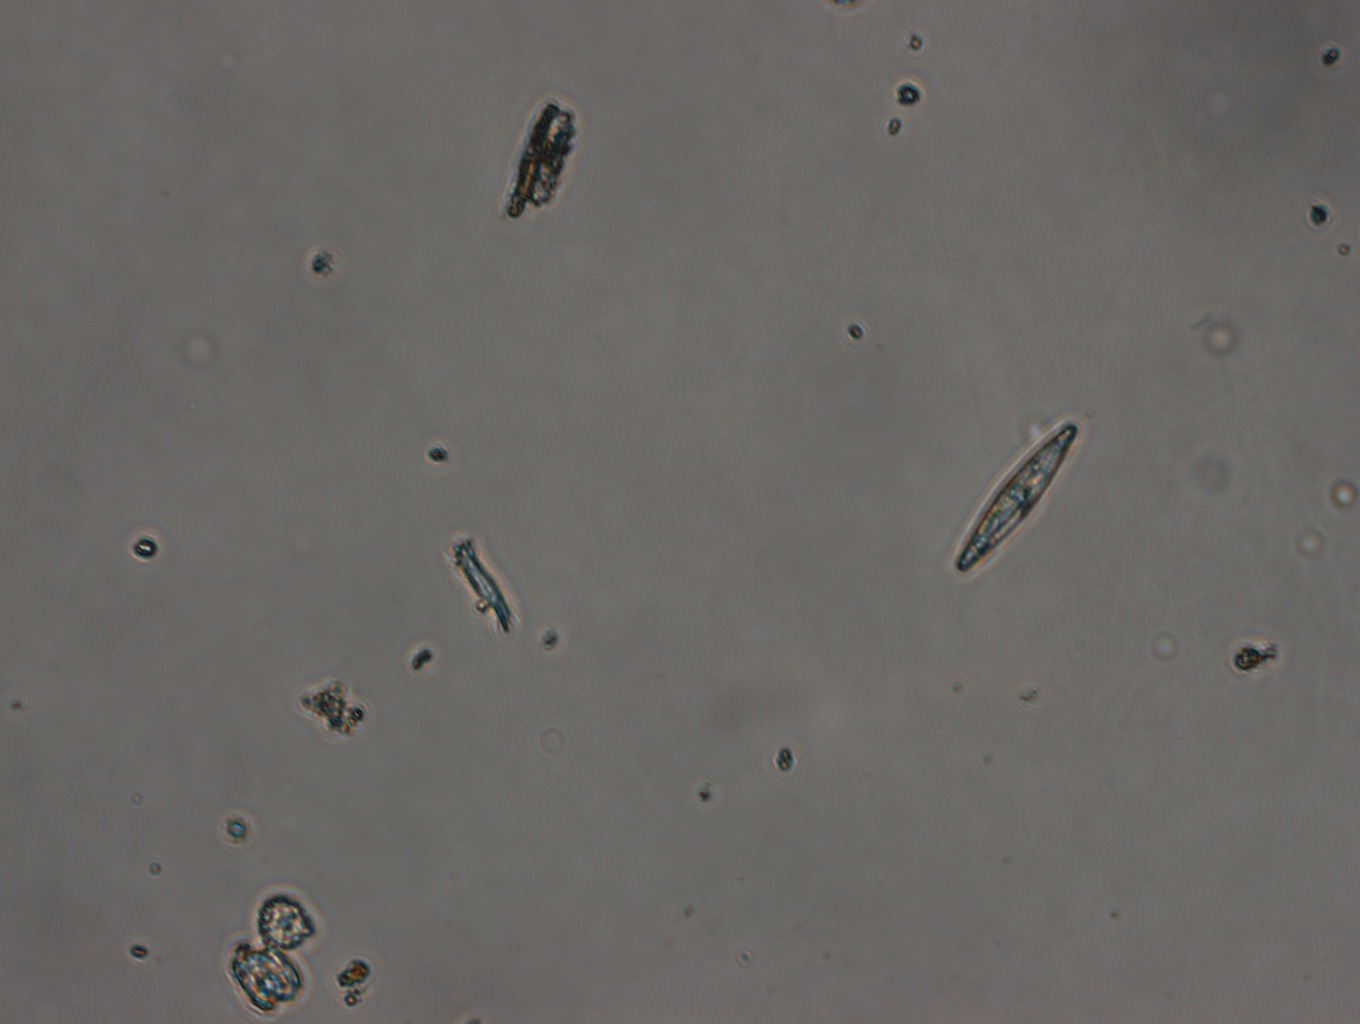navicula: (946, 407, 1089, 573)
